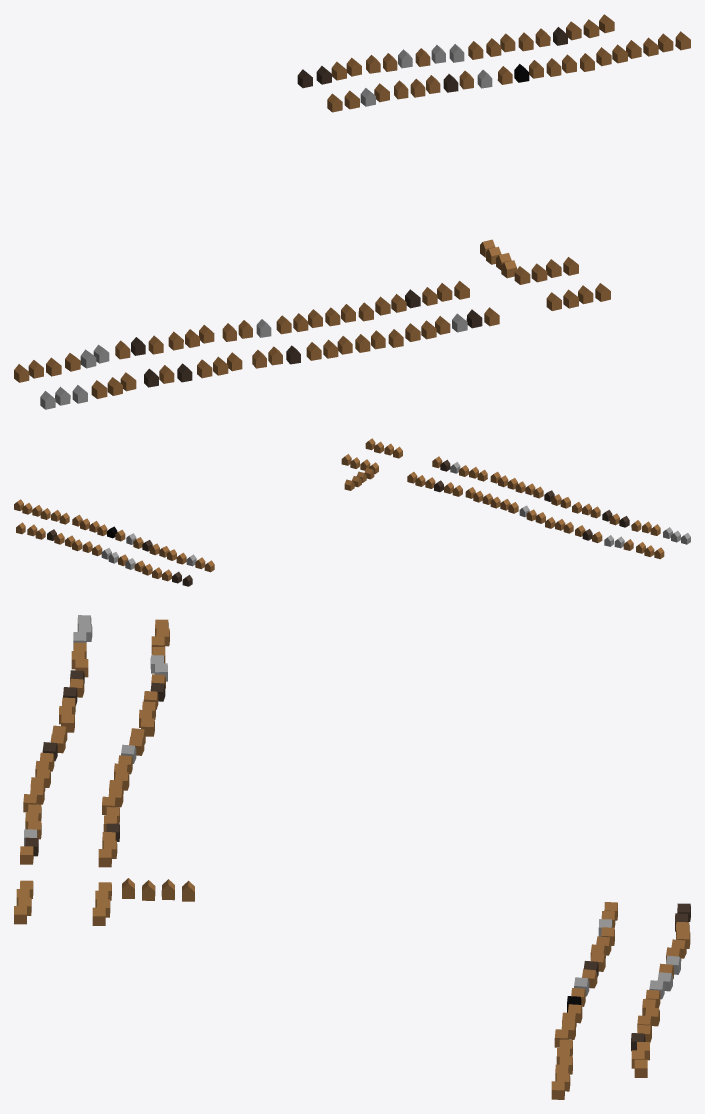
The model's file is houses.glb.
3 renders of one model, top to bottom at view 1: azimuth 30°, elevation 25°; view 2: azimuth 150°, elevation 25°; view 3: azimuth 270°, elevation 25°, orthographic. The views are drawn at different scales.
Bounding box in the file's own units: 933 × 14.37 × 566.
